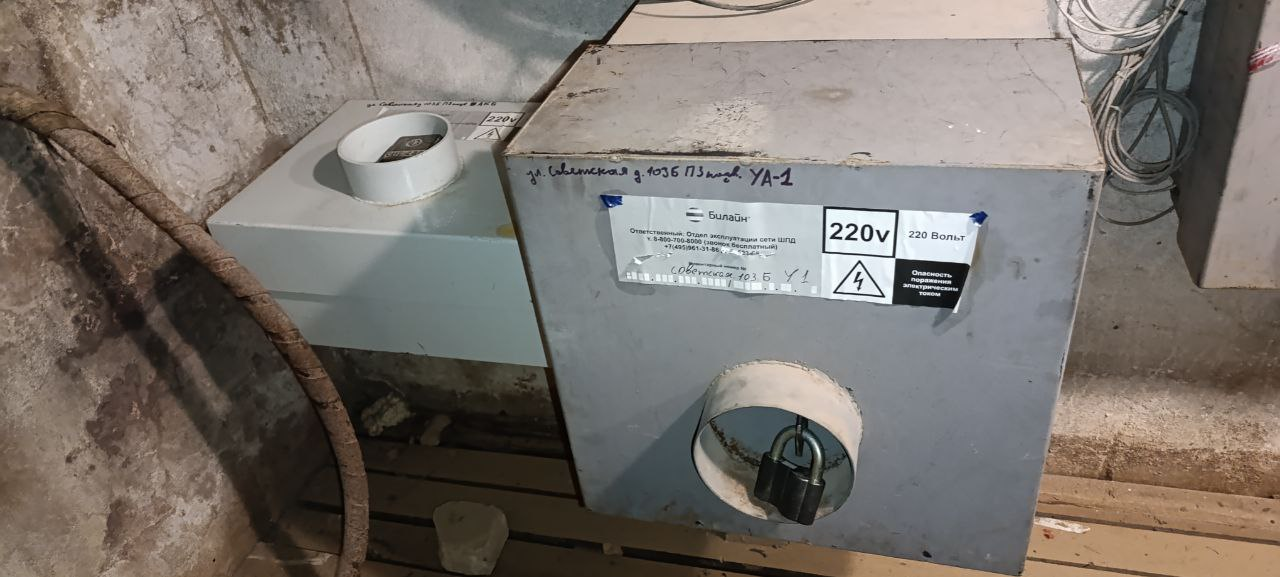shta-9: (494, 4, 1110, 574)
shta-ps: (202, 93, 538, 366)
